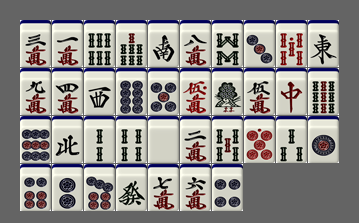0m: (180, 68, 211, 115)
0p: (244, 116, 275, 163)
0s: (276, 20, 307, 67)
1m: (52, 20, 83, 67)
1p: (308, 116, 339, 163)
1s: (212, 68, 243, 115)
1z: (308, 20, 339, 67)
2m: (180, 116, 211, 163)
2p: (52, 164, 83, 211)
2s: (84, 116, 115, 163)
2z: (148, 20, 179, 67)
3m: (20, 20, 51, 67)
3p: (244, 20, 275, 67)
3s: (276, 116, 307, 163)
3z: (84, 68, 115, 115)
4m: (52, 68, 83, 115)
4p: (212, 164, 243, 211)
4s: (116, 116, 147, 163)
4z: (52, 116, 83, 163)
5m: (244, 68, 275, 115)
5p: (148, 68, 179, 115)
5s: (212, 116, 243, 163)
5z: (148, 116, 179, 163)
6m: (180, 164, 211, 211)
6p: (20, 164, 51, 211)
6s: (84, 20, 115, 67)
6z: (116, 164, 147, 211)
7m: (148, 164, 179, 211)
7p: (84, 164, 115, 211)
7s: (116, 20, 147, 67)
7z: (276, 68, 307, 115)
8m: (180, 20, 211, 67)
8p: (116, 68, 147, 115)
8s: (212, 20, 243, 67)
9m: (20, 68, 51, 115)
9p: (20, 116, 51, 163)
9s: (308, 68, 339, 115)
